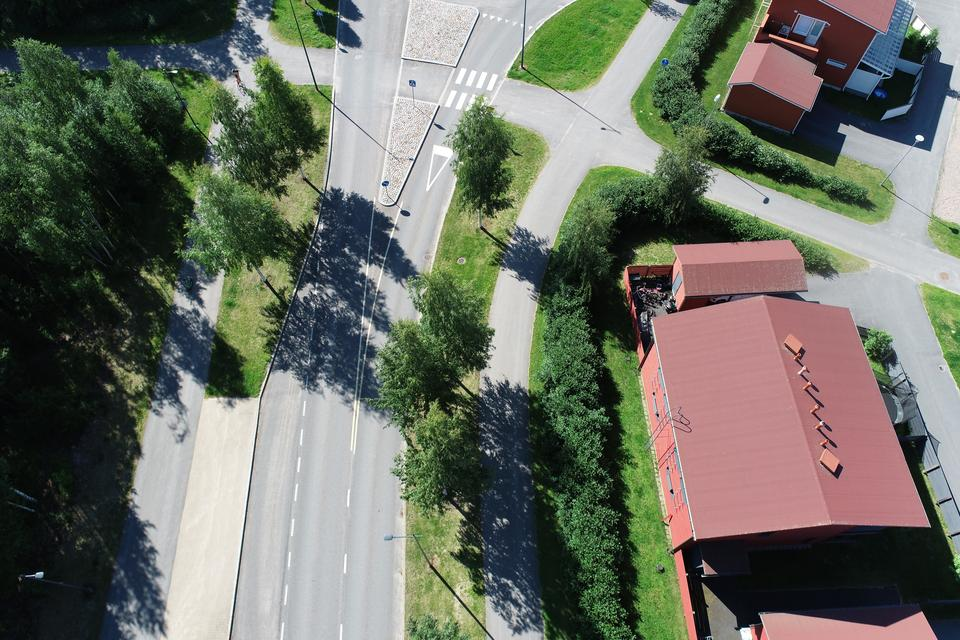intersection: (277, 36, 676, 196)
